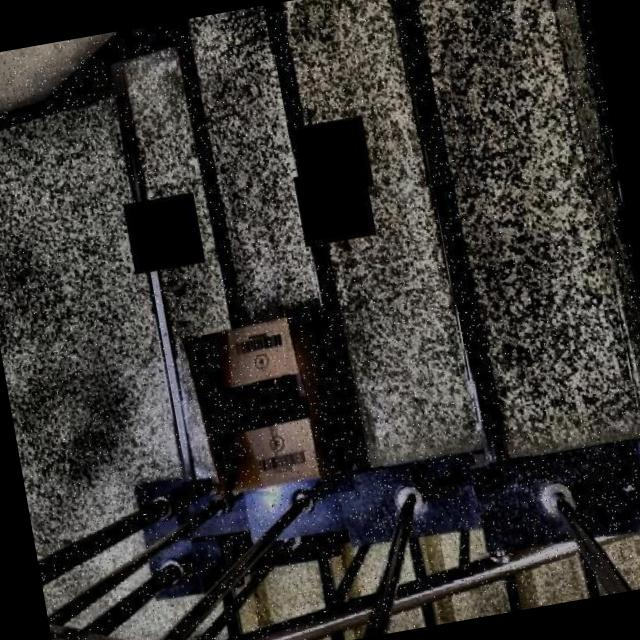box: (161, 297, 356, 518)
